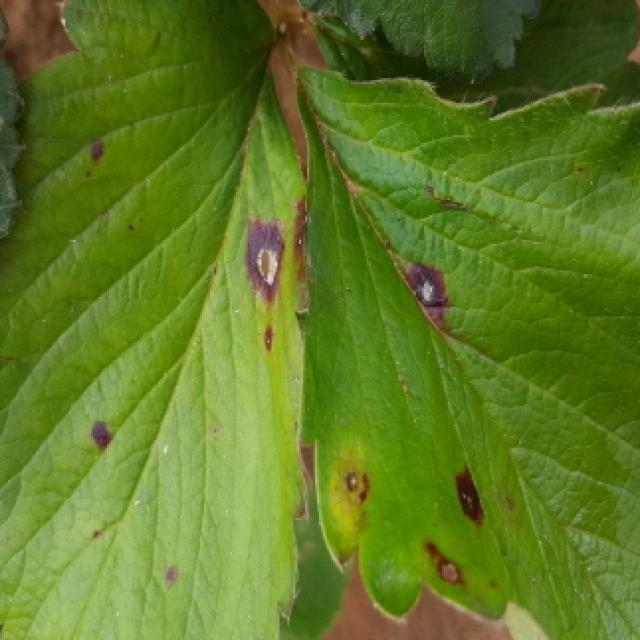Leaf Spot: (291, 62, 640, 640), (0, 0, 307, 640), (293, 0, 541, 84)
